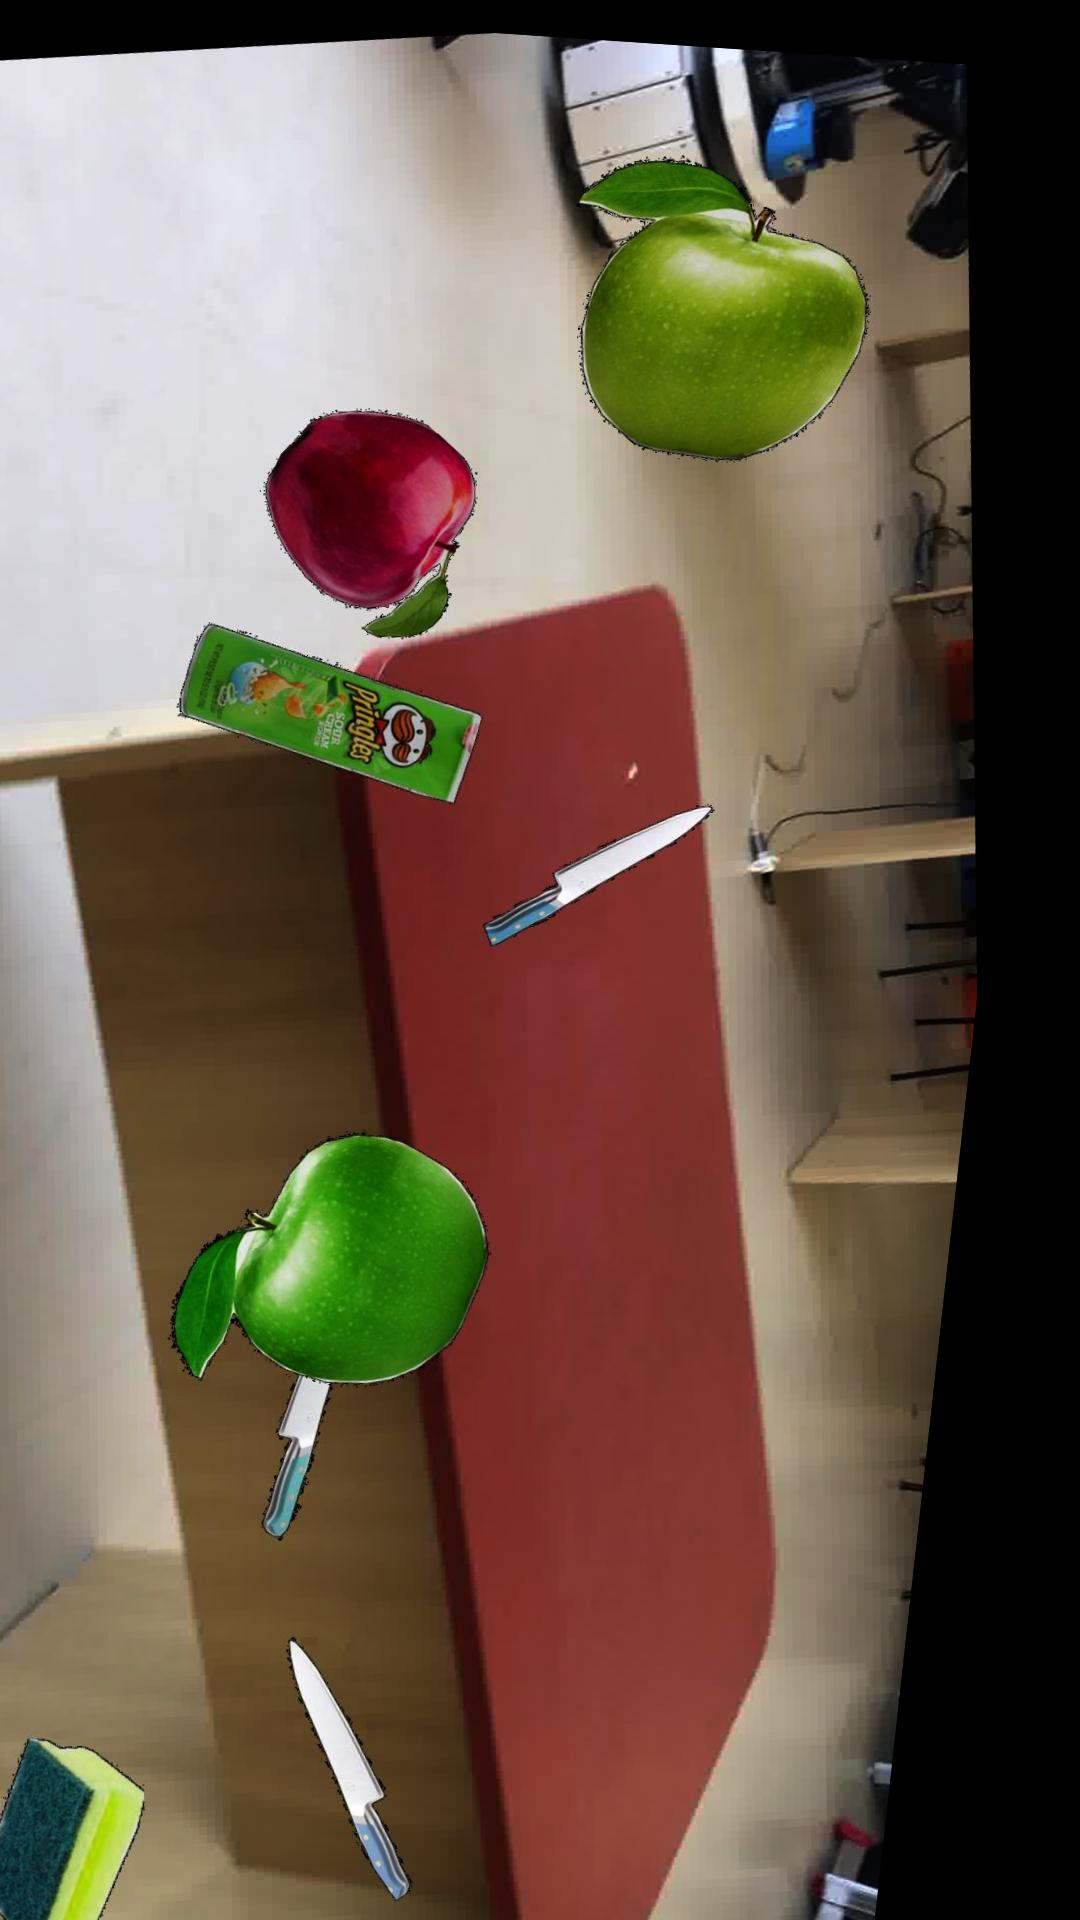apple: (274, 402, 484, 629)
green apple: (578, 146, 872, 447), (198, 1122, 514, 1374)
knife: (323, 1630, 451, 1890), (501, 791, 728, 935), (294, 1365, 361, 1531)
pringles: (193, 617, 496, 794)
sponge: (20, 1733, 183, 1920)
